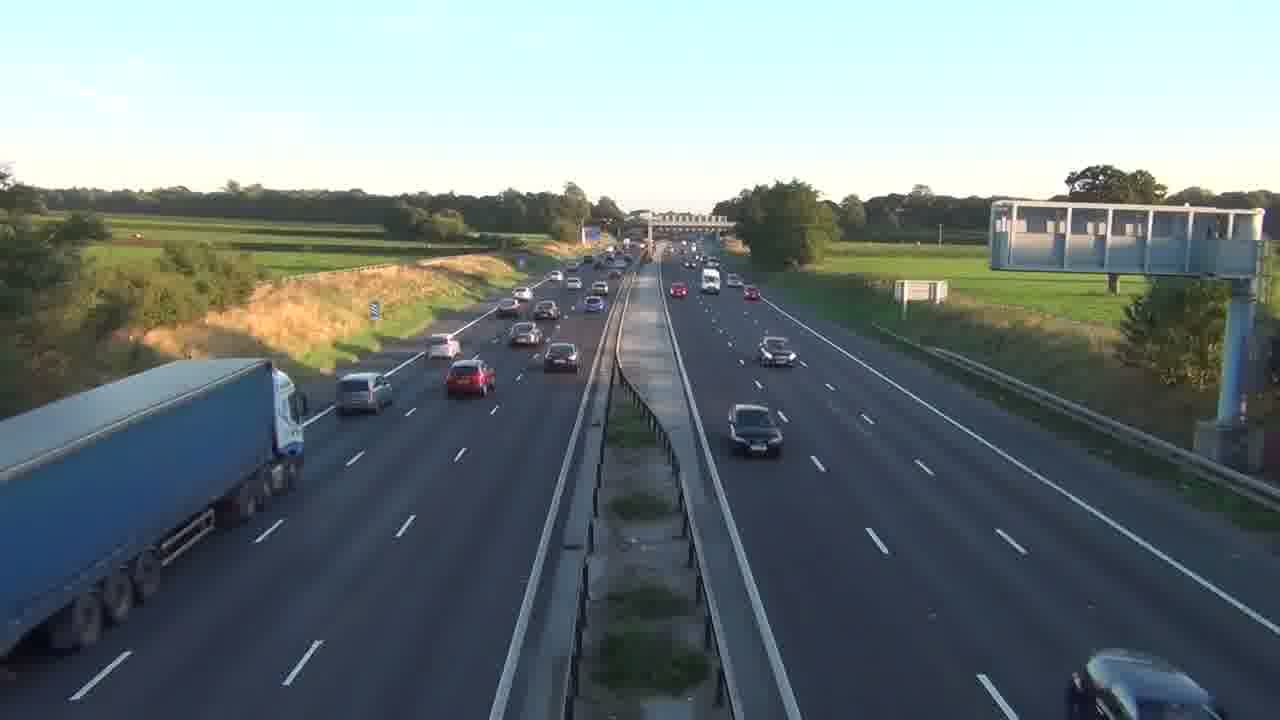car: (1064, 648, 1225, 719), (727, 403, 784, 457), (444, 355, 494, 398), (757, 336, 797, 367), (543, 341, 580, 373), (509, 321, 545, 346), (532, 299, 562, 320), (671, 281, 689, 299)
truck: (1, 357, 308, 662), (334, 372, 391, 416), (701, 267, 722, 295)
